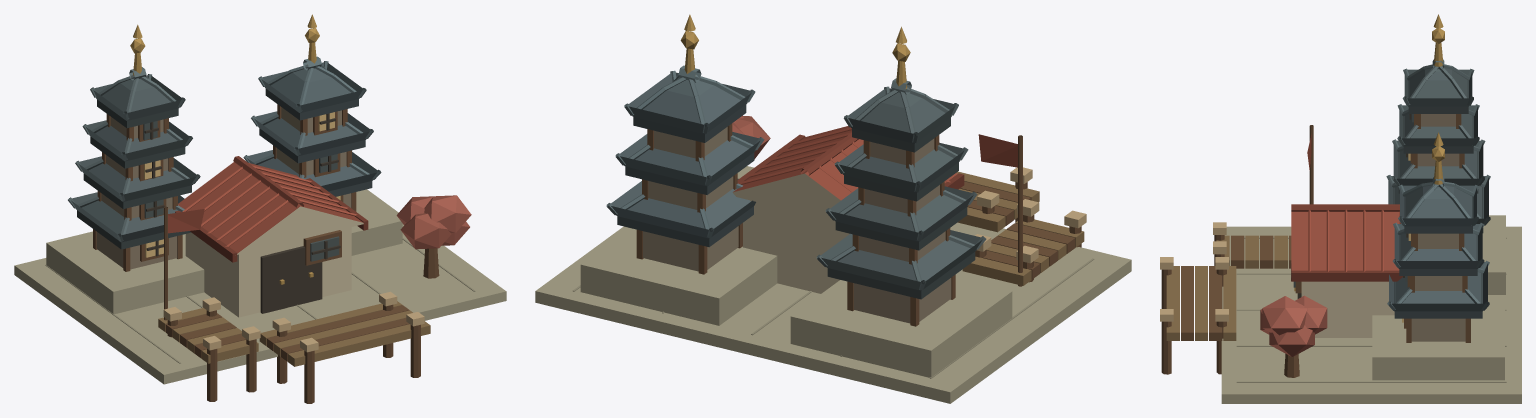
3 views of the same model, side by side, from view 1: azimuth 30°, elevation 25°; view 2: azimuth 150°, elevation 25°; view 3: azimuth 270°, elevation 25° (orthographic). The views are drawn at different scales.
Parts seen in each view (by area): view 1: S34_泉州 · 刺桐海港; view 2: S34_泉州 · 刺桐海港; view 3: S34_泉州 · 刺桐海港.
Boxes of the visible parts, x1=… form: S34_泉州 · 刺桐海港: x1=14, y1=14, x2=506, y2=403; S34_泉州 · 刺桐海港: x1=535, y1=14, x2=1131, y2=403; S34_泉州 · 刺桐海港: x1=1160, y1=14, x2=1521, y2=403.
Bounding box in the file's own units: 4.1 × 3.29 × 3.73.
